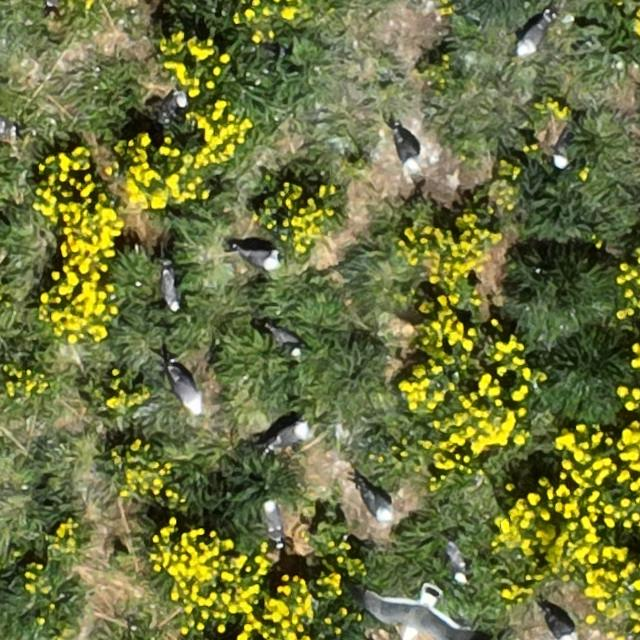F: (372, 582, 472, 638)
umineko: (172, 369, 203, 412), (517, 18, 546, 53), (395, 130, 419, 166), (272, 424, 310, 446), (365, 490, 391, 522), (239, 249, 278, 270), (158, 91, 188, 118), (546, 612, 574, 639), (269, 328, 299, 352), (162, 272, 179, 310), (264, 502, 282, 536)
